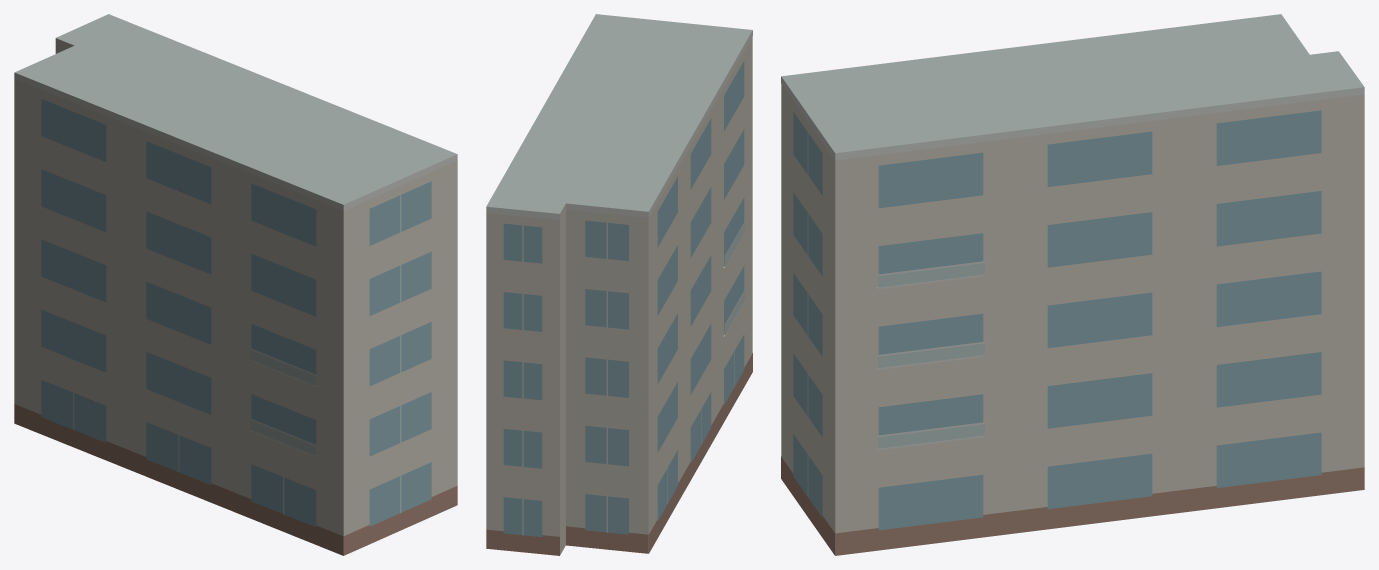
File: survey-upis-32956490.glb
3 renders of one model, left to right at view 1: azimuth 30°, elevation 25°; view 2: azimuth 150°, elevation 25°; view 3: azimuth 270°, elevation 25°, orthographic. The views are drawn at different scales.
Parts seen in each view (by area): view 1: survey-upis-32956490.tmp; view 2: survey-upis-32956490.tmp; view 3: survey-upis-32956490.tmp.
Boxes of the visible parts, x1,y1,x2,y2 form: survey-upis-32956490.tmp: [14, 14, 457, 555]; survey-upis-32956490.tmp: [486, 14, 752, 555]; survey-upis-32956490.tmp: [781, 14, 1364, 555].
Size of the model in its own units: 10.02 by 13.5 by 17.74.
